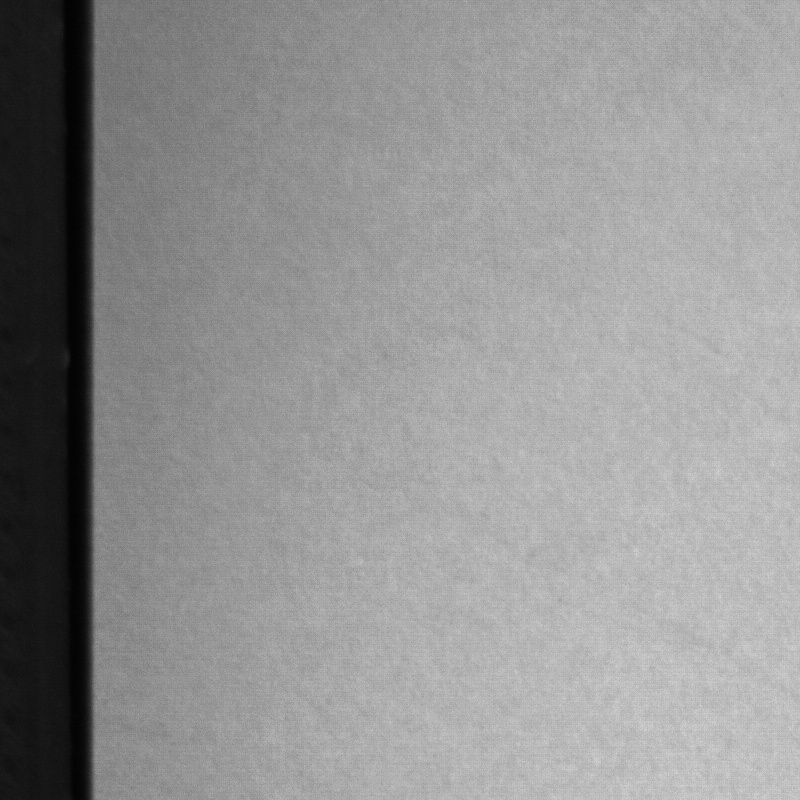defect: (675, 324, 739, 362)
